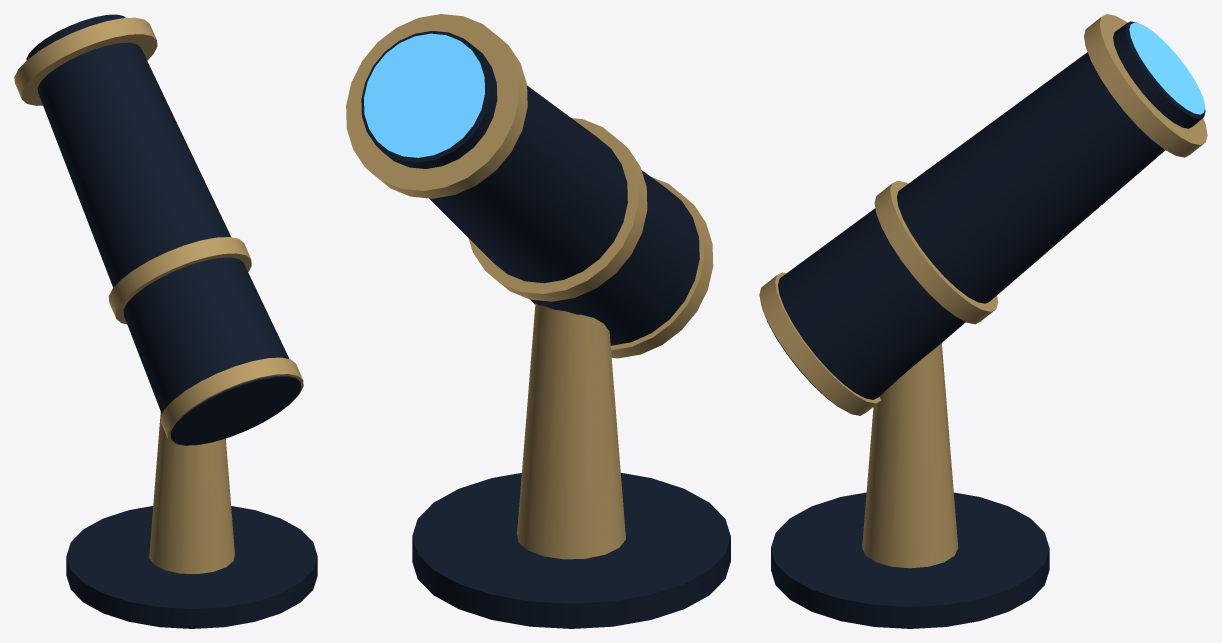
File: telescope-optimized-CP0i2w8Z.glb
The picture shows the model from 3 angles, left to right: view 1: azimuth 30°, elevation 25°; view 2: azimuth 150°, elevation 25°; view 3: azimuth 270°, elevation 25°; orthographic projection. The views are drawn at different scales.
Parts seen in each view (by area): view 1: ASTRA telescope / local optimized prototype; view 2: ASTRA telescope / local optimized prototype; view 3: ASTRA telescope / local optimized prototype.
Part boxes in pixels (x1=…): ASTRA telescope / local optimized prototype: x1=14, y1=14, x2=317, y2=628; ASTRA telescope / local optimized prototype: x1=346, y1=14, x2=730, y2=628; ASTRA telescope / local optimized prototype: x1=759, y1=14, x2=1207, y2=628.
Bounding box in the file's own units: 1.6 × 3.46 × 2.57.
